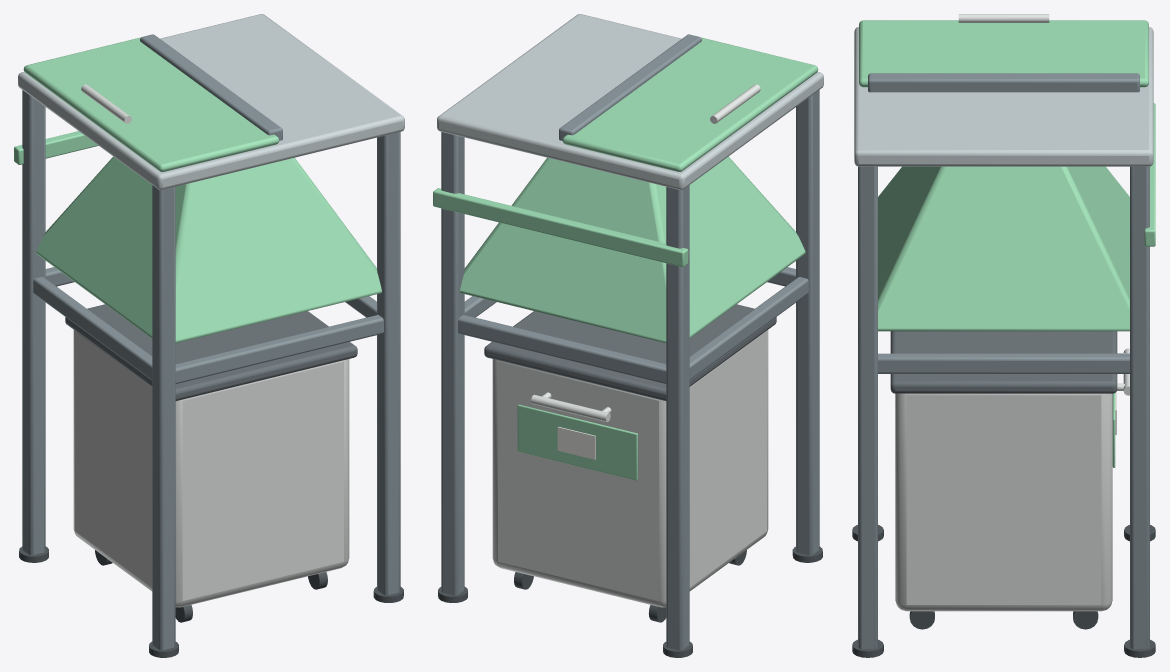
Rendered from compost_hopper.glb.
3 views of the same model, side by side, from view 1: azimuth 30°, elevation 25°; view 2: azimuth 150°, elevation 25°; view 3: azimuth 270°, elevation 25° (orthographic). The views are drawn at different scales.
Visible parts, largest first — view 1: bin_warm_panel, frame_dark_alloy, funnel_bright_green, rim_alloy, lid_bright_green, bin_rim_graphite, lid_hinge_dark_alloy, frame_band_bright_green, bin_wheels_black_rubber; view 2: bin_warm_panel, frame_dark_alloy, funnel_bright_green, rim_alloy, lid_bright_green, bin_rim_graphite, frame_band_bright_green, bin_label_bright_green, lid_hinge_dark_alloy, bin_label_mark_white_painted, bin_handle_satin_steel, bin_wheels_black_rubber; view 3: bin_warm_panel, funnel_bright_green, frame_dark_alloy, rim_alloy, lid_bright_green, bin_rim_graphite, lid_hinge_dark_alloy, bin_wheels_black_rubber, lid_handle_satin_steel, frame_band_bright_green.
Part boxes in pixels (bbox=[...]): bin_warm_panel: bbox=[73, 330, 349, 607]; frame_dark_alloy: bbox=[19, 90, 403, 657]; funnel_bright_green: bbox=[36, 156, 381, 342]; rim_alloy: bbox=[18, 14, 404, 189]; lid_bright_green: bbox=[23, 37, 279, 171]; bin_rim_graphite: bbox=[65, 304, 357, 400]; lid_hinge_dark_alloy: bbox=[140, 34, 282, 140]; frame_band_bright_green: bbox=[14, 131, 98, 164]; bin_wheels_black_rubber: bbox=[95, 550, 327, 622]; bin_warm_panel: bbox=[492, 330, 768, 607]; frame_dark_alloy: bbox=[438, 90, 822, 657]; funnel_bright_green: bbox=[460, 156, 805, 342]; rim_alloy: bbox=[437, 14, 823, 189]; lid_bright_green: bbox=[562, 37, 818, 171]; bin_rim_graphite: bbox=[484, 304, 776, 400]; frame_band_bright_green: bbox=[433, 188, 688, 267]; bin_label_bright_green: bbox=[517, 404, 637, 480]; lid_hinge_dark_alloy: bbox=[559, 34, 701, 140]; bin_label_mark_white_painted: bbox=[557, 426, 595, 459]; bin_handle_satin_steel: bbox=[531, 392, 611, 421]; bin_wheels_black_rubber: bbox=[514, 550, 746, 622]; bin_warm_panel: bbox=[895, 393, 1112, 611]; funnel_bright_green: bbox=[878, 166, 1129, 331]; frame_dark_alloy: bbox=[852, 166, 1155, 657]; rim_alloy: bbox=[854, 27, 1153, 166]; lid_bright_green: bbox=[859, 20, 1148, 87]; bin_rim_graphite: bbox=[890, 331, 1117, 393]; lid_hinge_dark_alloy: bbox=[868, 73, 1139, 92]; bin_wheels_black_rubber: bbox=[909, 611, 1098, 629]; lid_handle_satin_steel: bbox=[958, 14, 1049, 22]; frame_band_bright_green: bbox=[1144, 103, 1155, 246].
Bounding box in the file's own units: 0.67 × 1.28 × 0.67.
